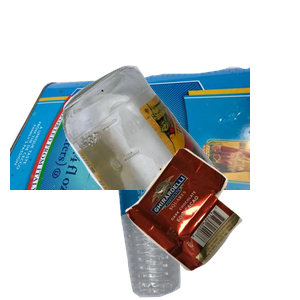glass: (60, 63, 300, 243)
metal: (10, 64, 250, 244)
plastic: (115, 176, 288, 300)
trash: (123, 145, 300, 300)
